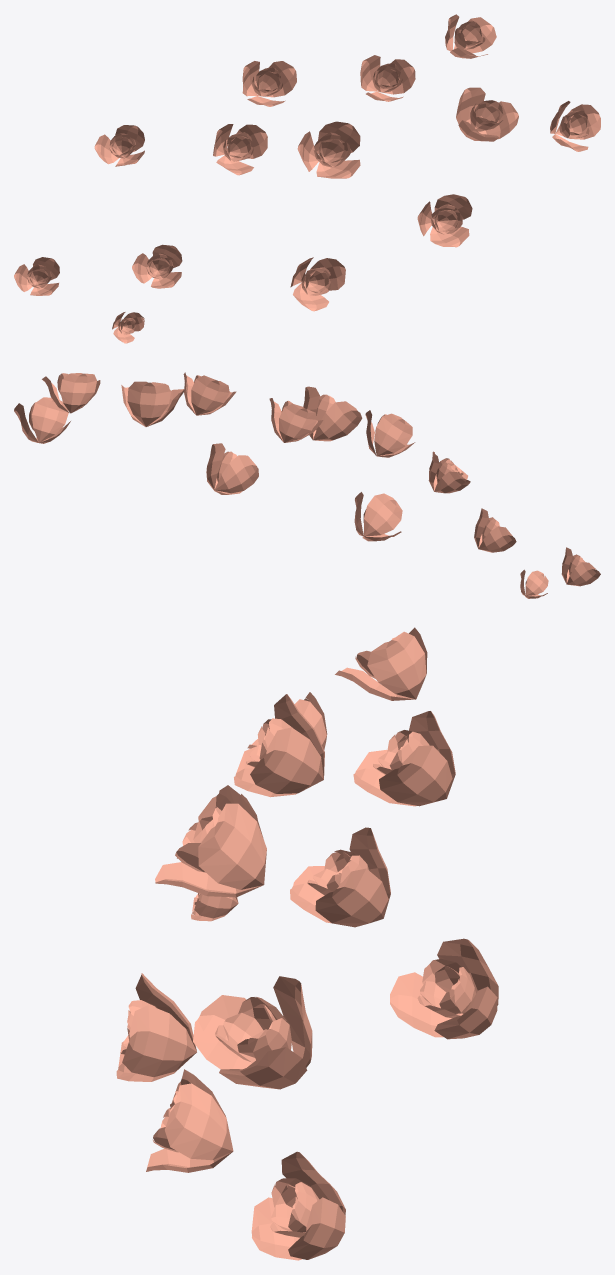
File: 34_openskp_material_69.003.obj
The picture shows the model from 3 angles, top to bottom: view 1: azimuth 30°, elevation 25°; view 2: azimuth 150°, elevation 25°; view 3: azimuth 270°, elevation 25°; orthographic projection. The views are drawn at different scales.
Parts seen in each view (by area): view 1: 34_openskp_material_69.003; view 2: 34_openskp_material_69.003; view 3: 34_openskp_material_69.003.
Part boxes in pixels (x1,y1,x2,y2): 34_openskp_material_69.003: [14, 14, 600, 343]; 34_openskp_material_69.003: [14, 372, 600, 598]; 34_openskp_material_69.003: [116, 627, 498, 1260].
Size of the model in its own units: 13.49 by 4.22 by 3.82.
